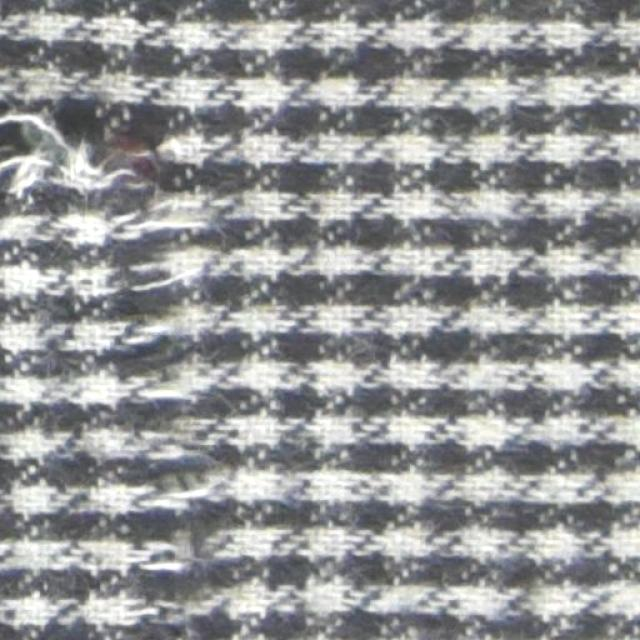Snag: (0, 112, 220, 627)
